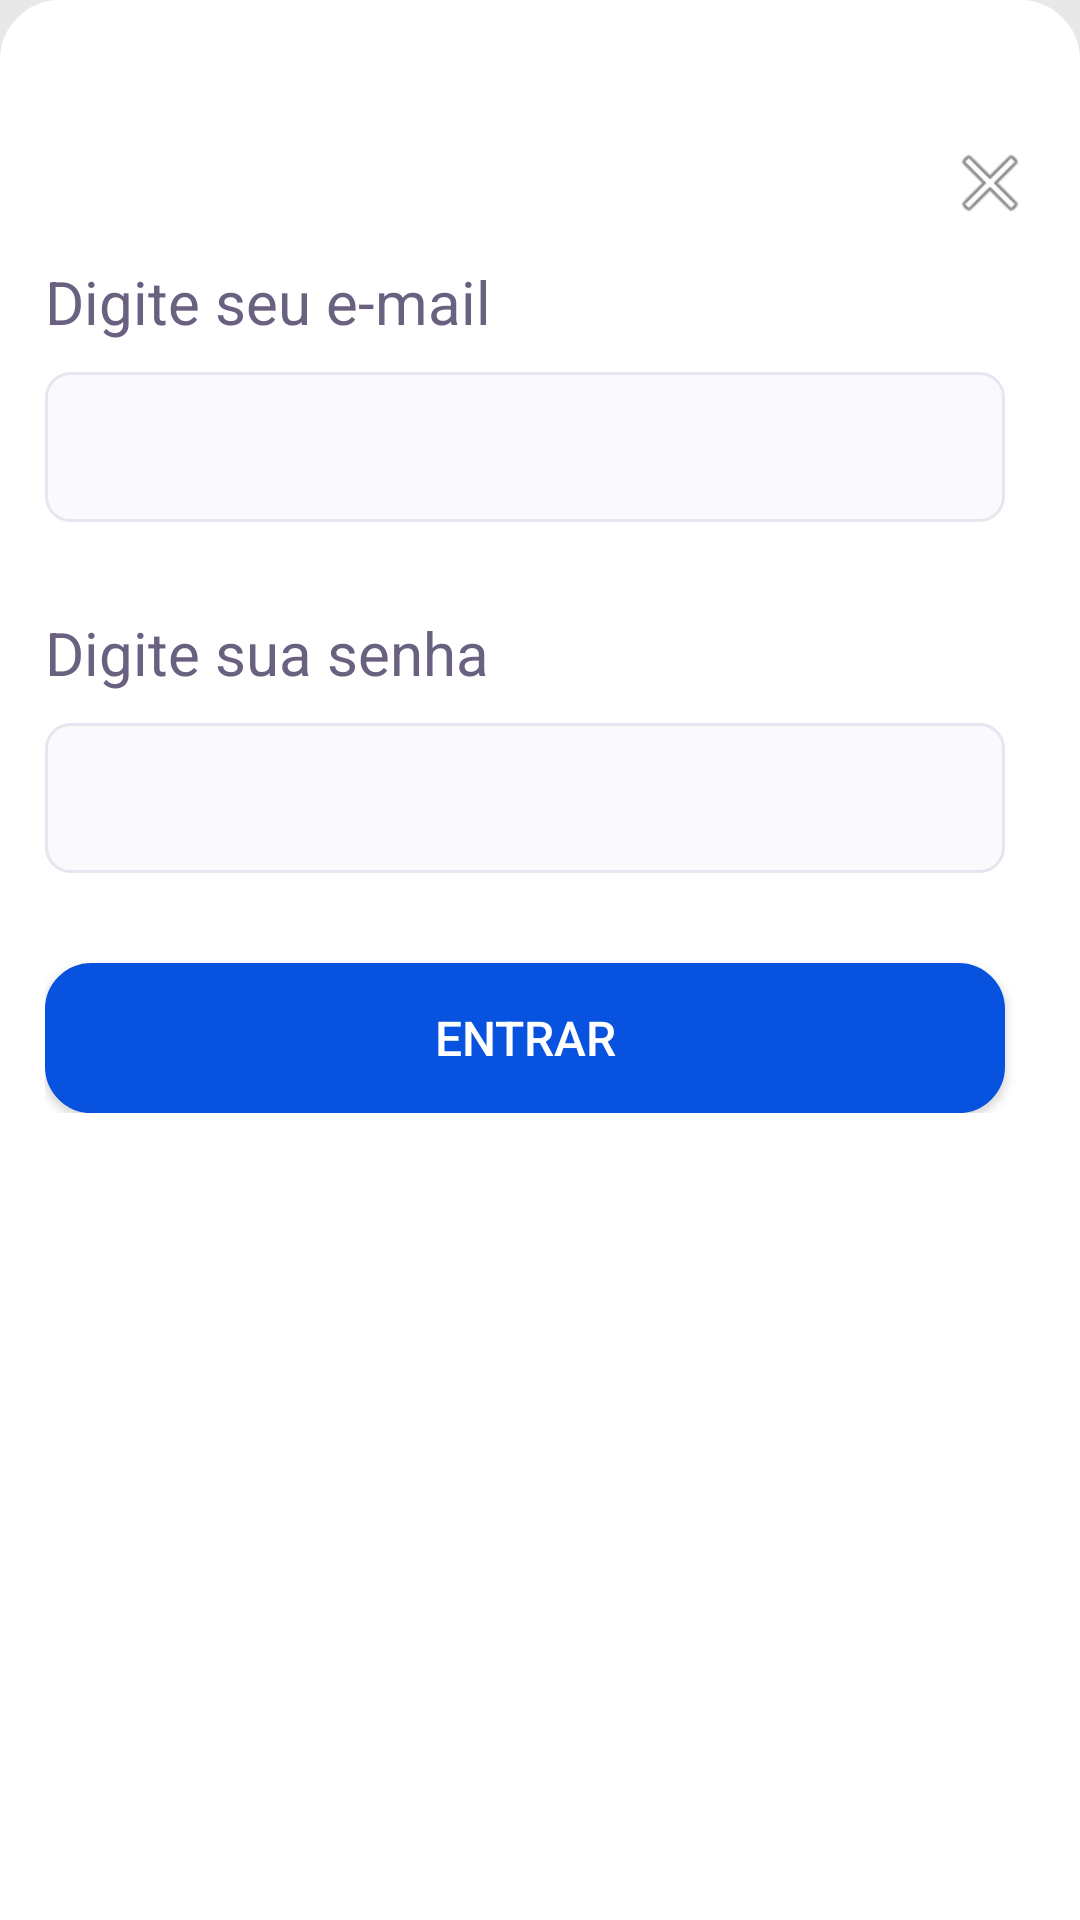

Icons on this 1080x1920 Android screen, each with the point to tap as point (x, y):
close clear cancel: point (990, 183)
